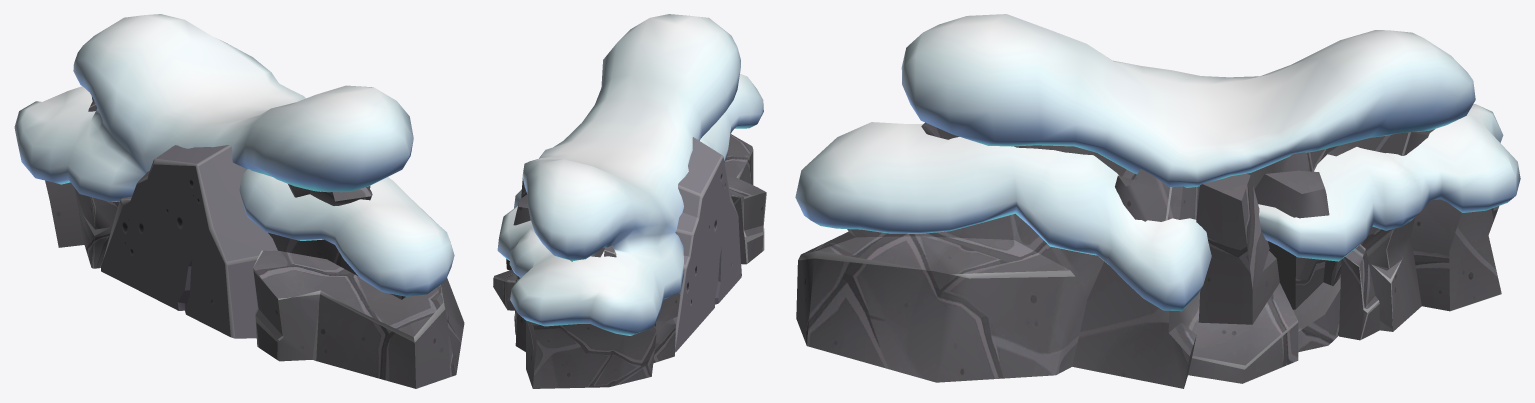
Rendered from DefaultIglooRockWallB.fbx.
3 renders of one model, left to right at view 1: azimuth 30°, elevation 25°; view 2: azimuth 150°, elevation 25°; view 3: azimuth 270°, elevation 25°, orthographic. The views are drawn at different scales.
Parts seen in each view (by area): view 1: Snow, Rock, FlatRock; view 2: Snow, Rock, FlatRock; view 3: Snow, Rock.
Part boxes in pixels (x1,y1,x2,y2): Snow: (14,14,454,296); Rock: (45,97,464,388); FlatRock: (101,145,277,338); Snow: (497,14,763,335); Rock: (493,132,766,388); FlatRock: (673,137,741,352); Snow: (795,14,1520,311); Rock: (796,122,1501,388).
Size of the model in its own units: 566 by 504 by 1108.
